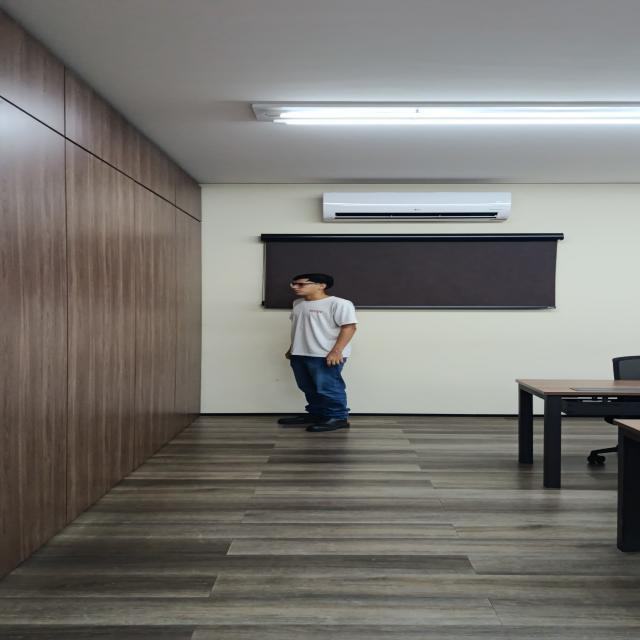oculos-epi: (291, 283, 321, 287)
